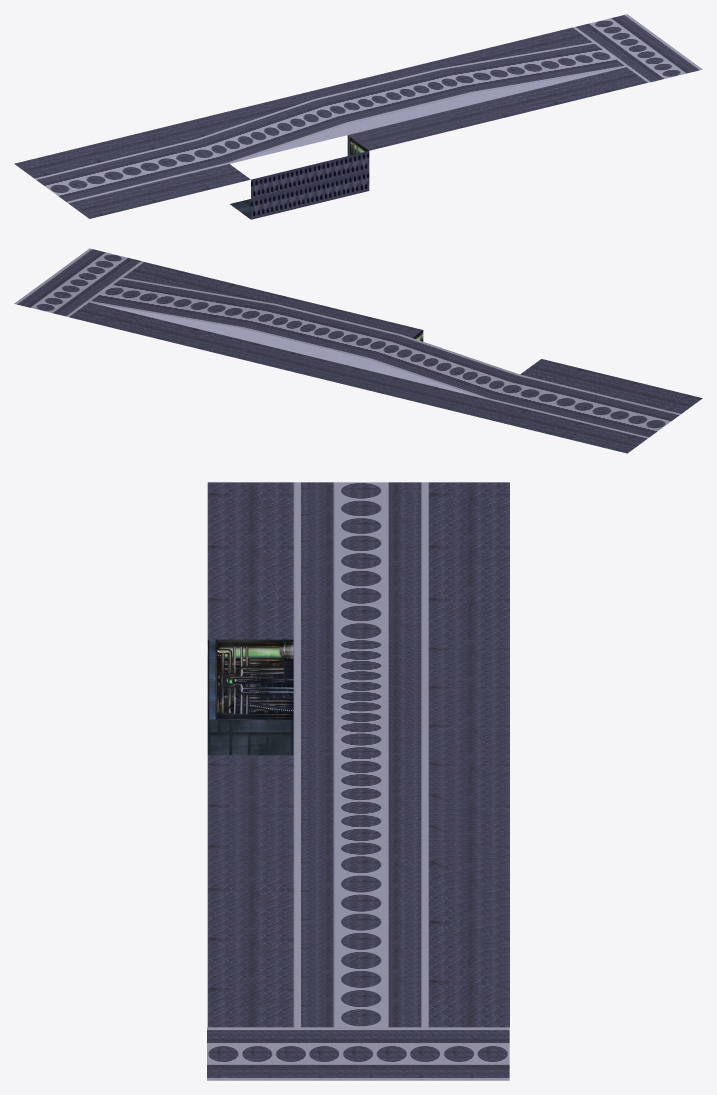
3 renders of one model, top to bottom at view 1: azimuth 30°, elevation 25°; view 2: azimuth 150°, elevation 25°; view 3: azimuth 270°, elevation 25°, orthographic. The views are drawn at different scales.
Visible parts, largest first — view 1: Plane02; view 2: Plane02; view 3: Plane02.
Part boxes in pixels (x1,y1,x2,y2): Plane02: [14, 14, 702, 219]; Plane02: [14, 248, 702, 453]; Plane02: [207, 482, 509, 1080].
Size of the model in its own units: 5039 by 403 by 1079.
Materials: 5 (5 with a texture image).
